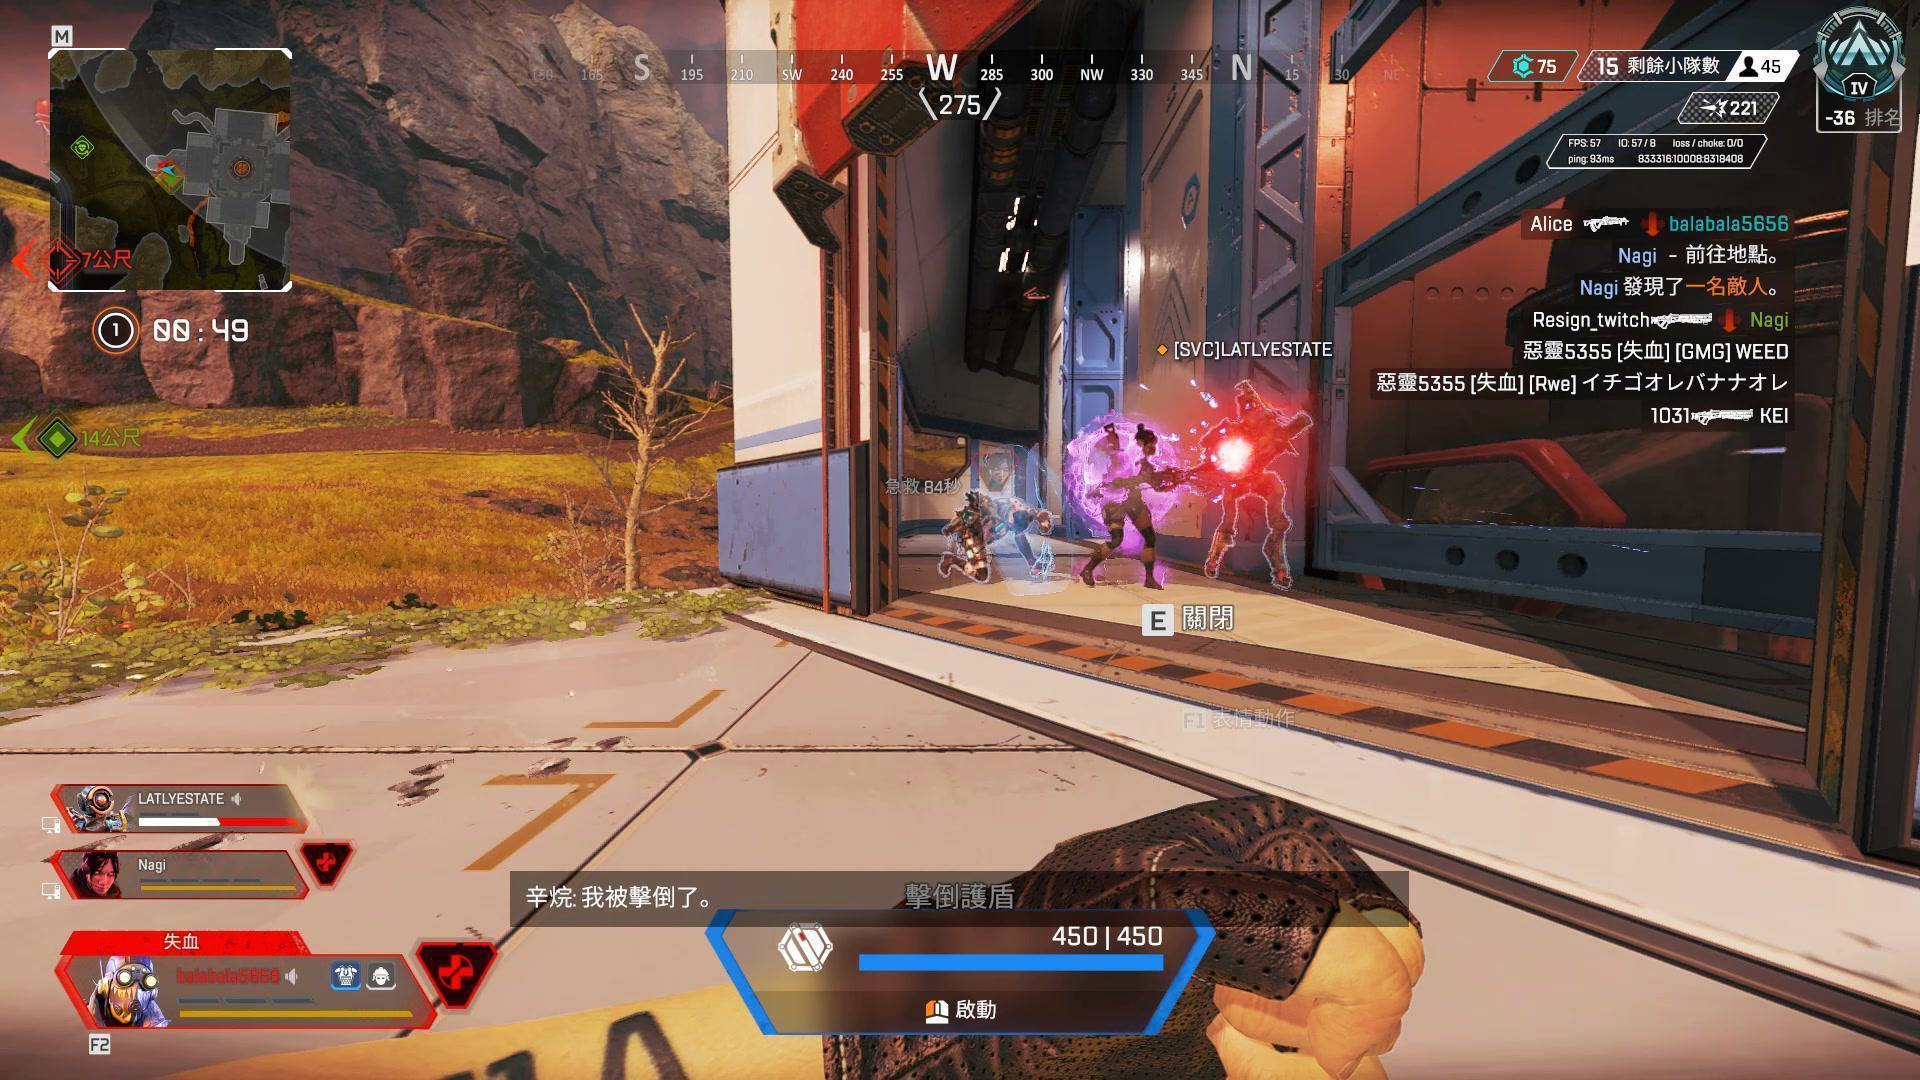avatar: (1196, 378, 1317, 593), (1085, 421, 1170, 592), (934, 488, 1033, 584)
object: (1209, 430, 1258, 483)
